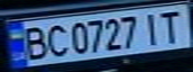0: (66, 19, 90, 55)
2: (103, 15, 127, 52)
7: (118, 12, 142, 48), (84, 17, 106, 53)
B: (15, 24, 51, 62)
C: (42, 23, 69, 57)
I: (139, 10, 166, 45)
T: (154, 7, 190, 43)
